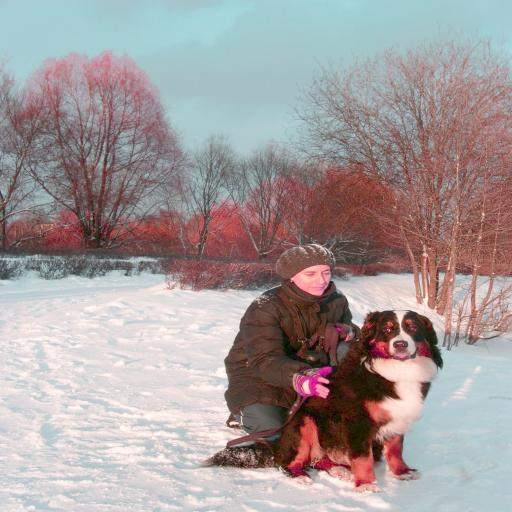dog_face: (366, 305, 440, 369)
